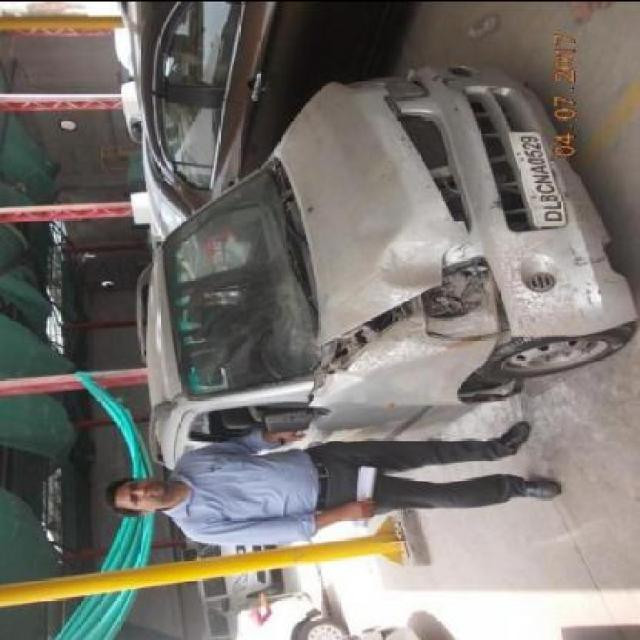damage: (472, 194, 636, 337), (311, 300, 416, 404), (417, 251, 524, 343), (308, 379, 521, 418), (371, 216, 467, 291)
